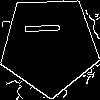I: (24, 20, 69, 36)
